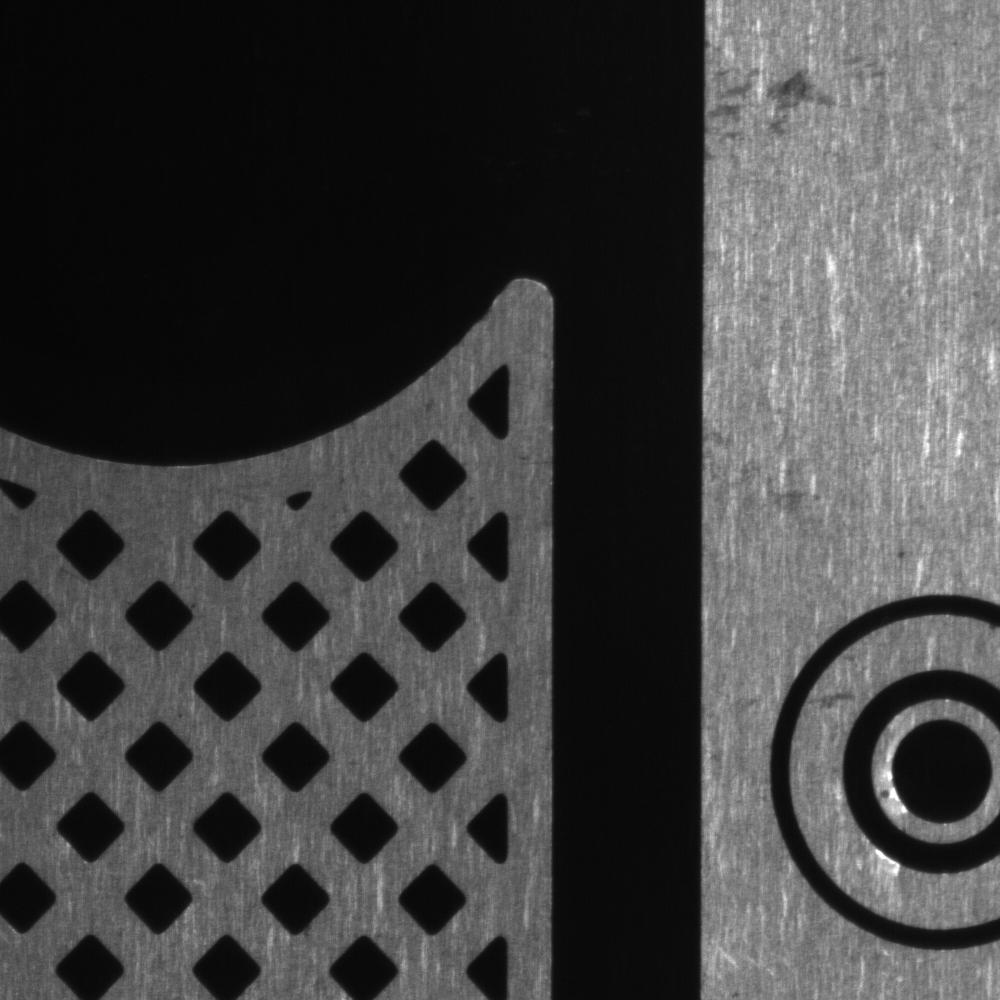Discolor: (705, 61, 849, 161)
